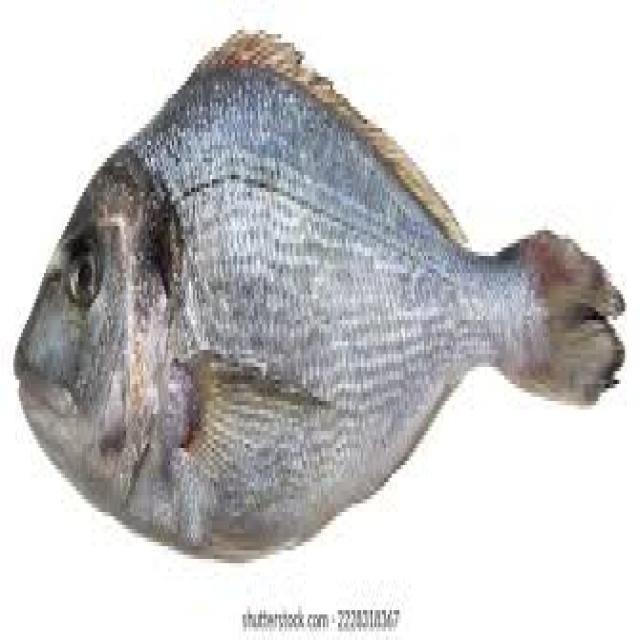EUS Disease: (15, 33, 636, 561)
